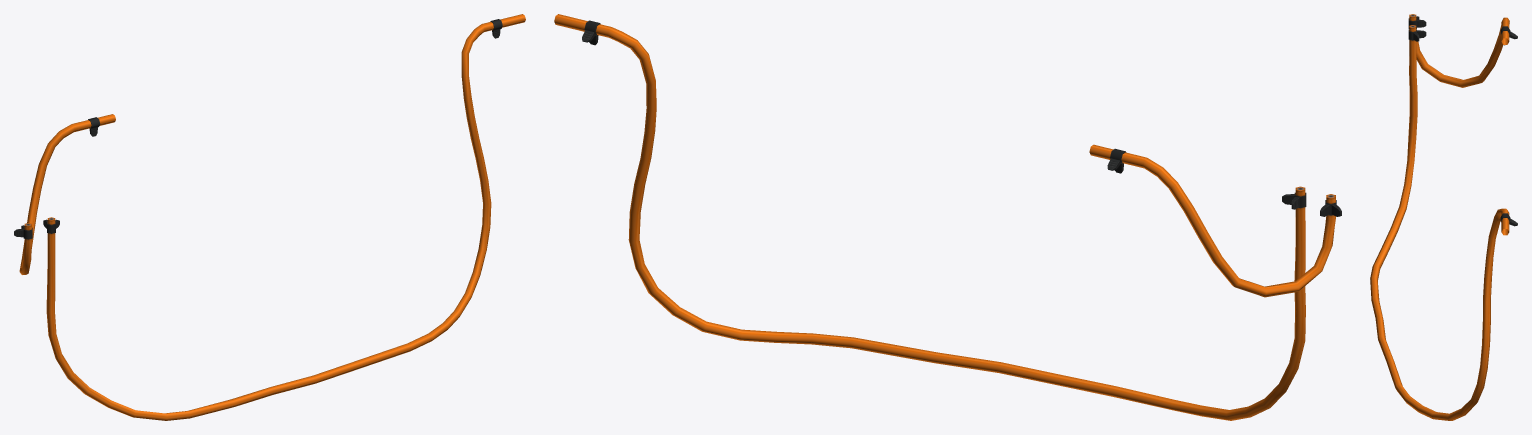
File: jsf_GasRange_17d.fbx
3 views of the same model, side by side, from view 1: azimuth 30°, elevation 25°; view 2: azimuth 150°, elevation 25°; view 3: azimuth 270°, elevation 25° (orthographic). The views are drawn at different scales.
Visible parts, largest first — view 1: GasHose; view 2: GasHose; view 3: GasHose.
Part boxes in pixels (x1,y1,x2,y2): GasHose: (14,14,525,420); GasHose: (554,14,1341,420); GasHose: (1370,14,1517,420).
Bounding box in the file's own units: 133 × 58.47 × 32.21.
